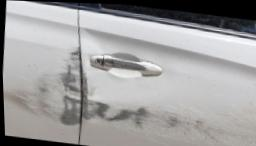Door: (77, 33, 256, 146), (3, 26, 80, 143)
